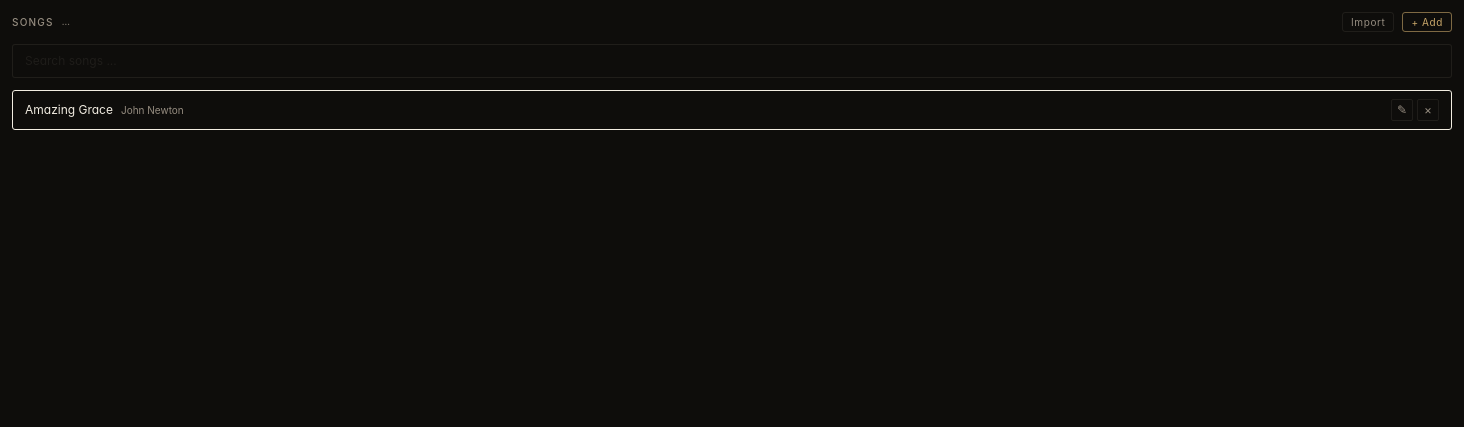
SongLibrary › shows edit form when edit button is clicked
This screenshot has width=1464, height=427.
Expected: the text "Amazing Grace" is shown, x1=25 y1=102 x2=113 y2=118
Click the button titled "Edit" at {"x": 1402, "y": 110}, box x1=1391 y1=99 x2=1413 y2=121
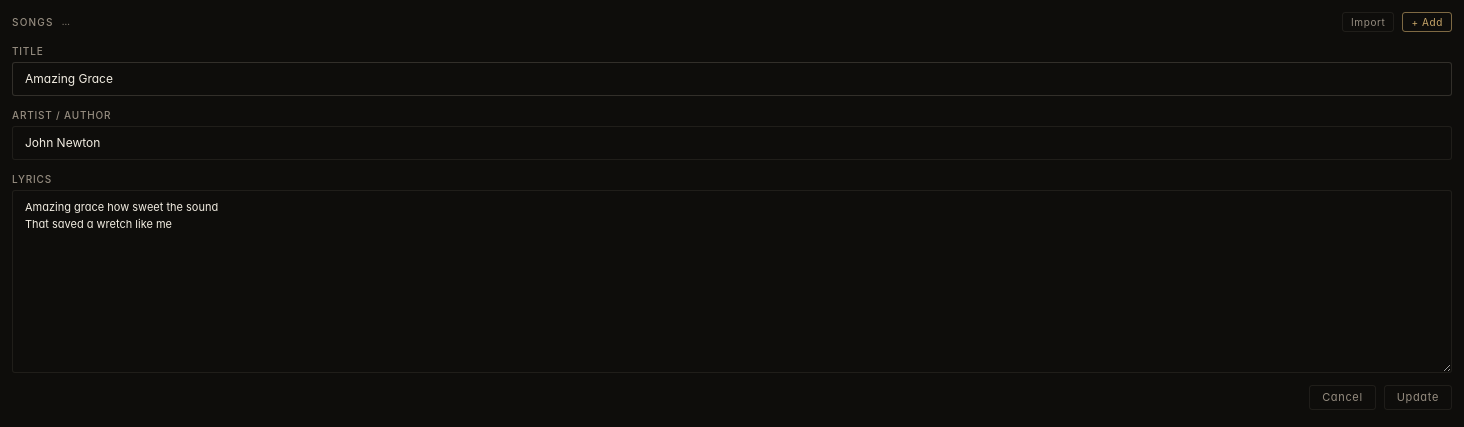
Expected: the field showing "Amazing Grace" is shown, x1=12 y1=62 x2=1452 y2=96
